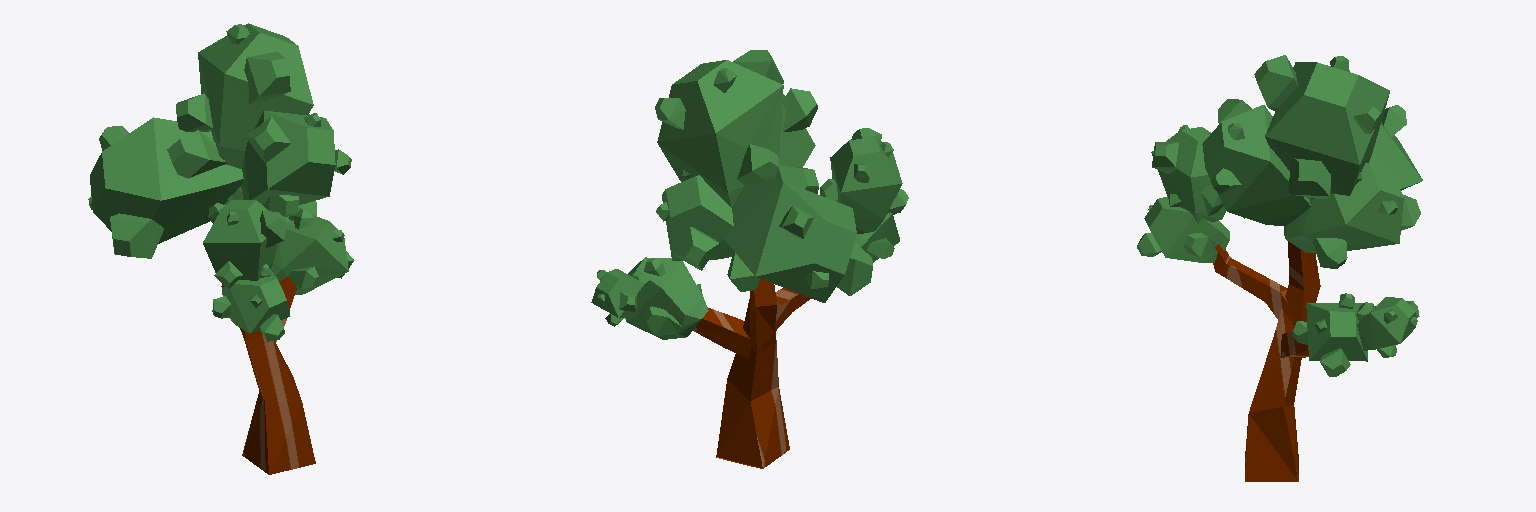
3 views of the same model, side by side, from view 1: azimuth 30°, elevation 25°; view 2: azimuth 150°, elevation 25°; view 3: azimuth 270°, elevation 25° (orthographic).
Visible parts, largest first — view 1: crown, Tree; view 2: crown, Tree; view 3: crown, Tree.
Part boxes in pixels (x1,y1,x2,y2): crown: (88, 23, 353, 341); Tree: (221, 276, 315, 474); crown: (591, 50, 908, 339); Tree: (693, 279, 811, 468); crown: (1137, 55, 1422, 376); Tree: (1213, 241, 1320, 481).
Bounding box in the file's own units: 10.59 × 16.73 × 10.6.
Materials: 2 (2 with a texture image).